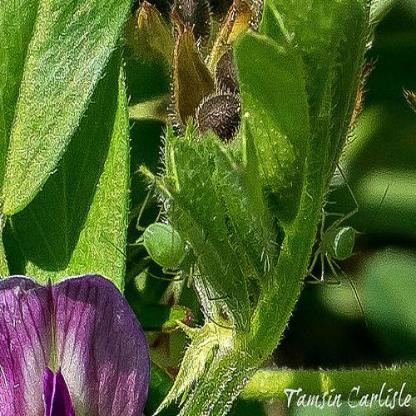aphid: (298, 154, 381, 318), (119, 192, 220, 304)
